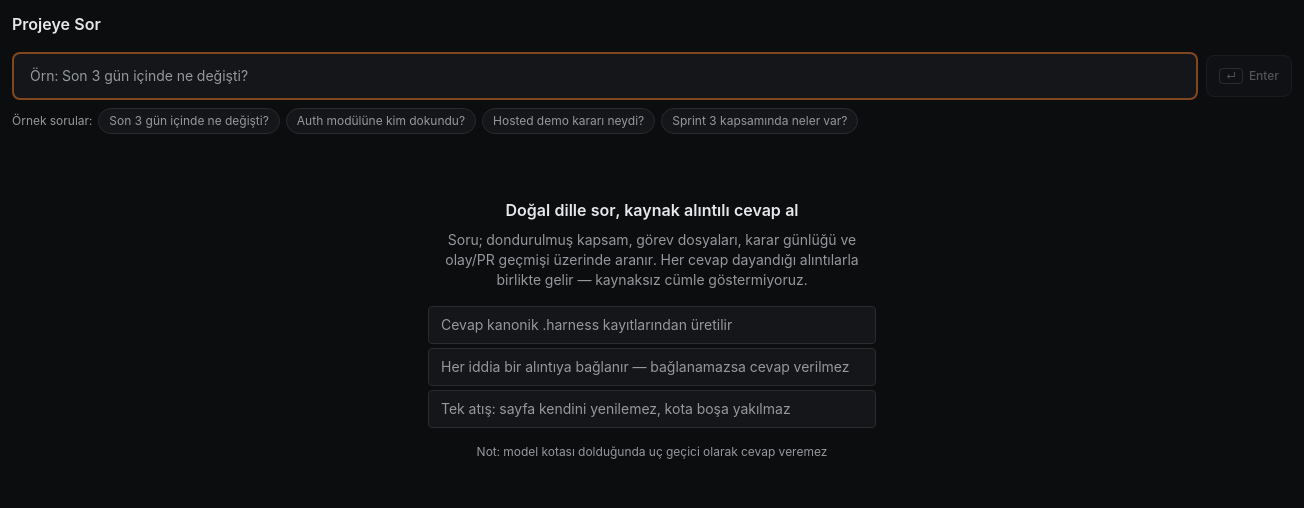
Test case: AskPage — Takip önerileri (#319, cevabın altında) › answered cevapta citation'lardan ŞABLONLU takip sorusu üretir
The width and height of the screenshot is (1304, 508).
In the field named "Projeye sorulacak soru": (605, 76) 12,52 -> 1198,100, type "Auth modülüne kim dokundu?"
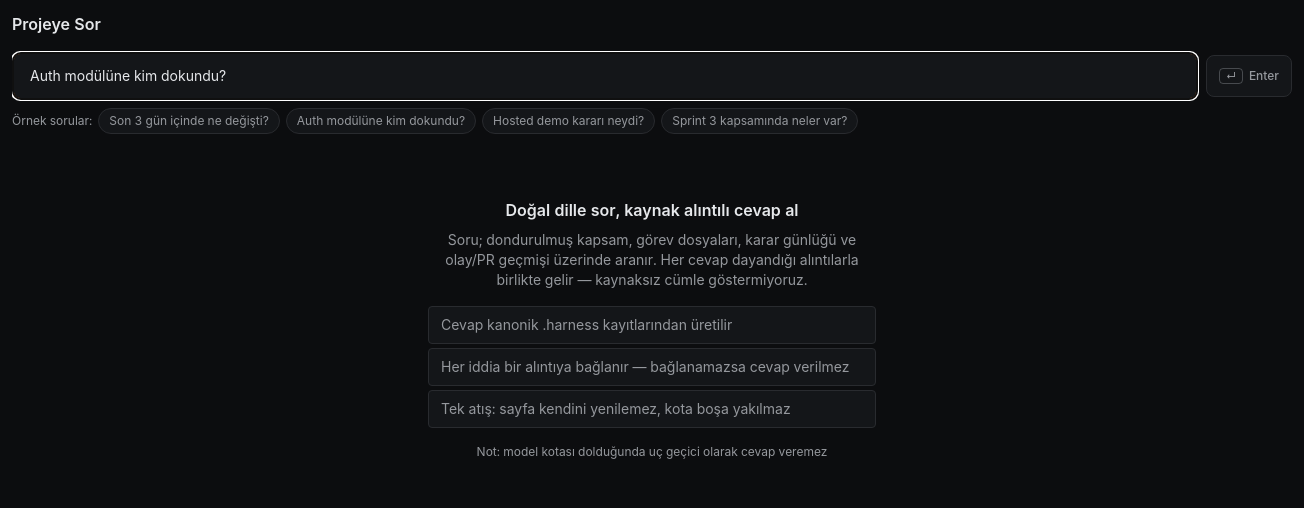
Click the button with aria-label "Soruyu gönder": (1249, 76) 1206,55 -> 1292,97
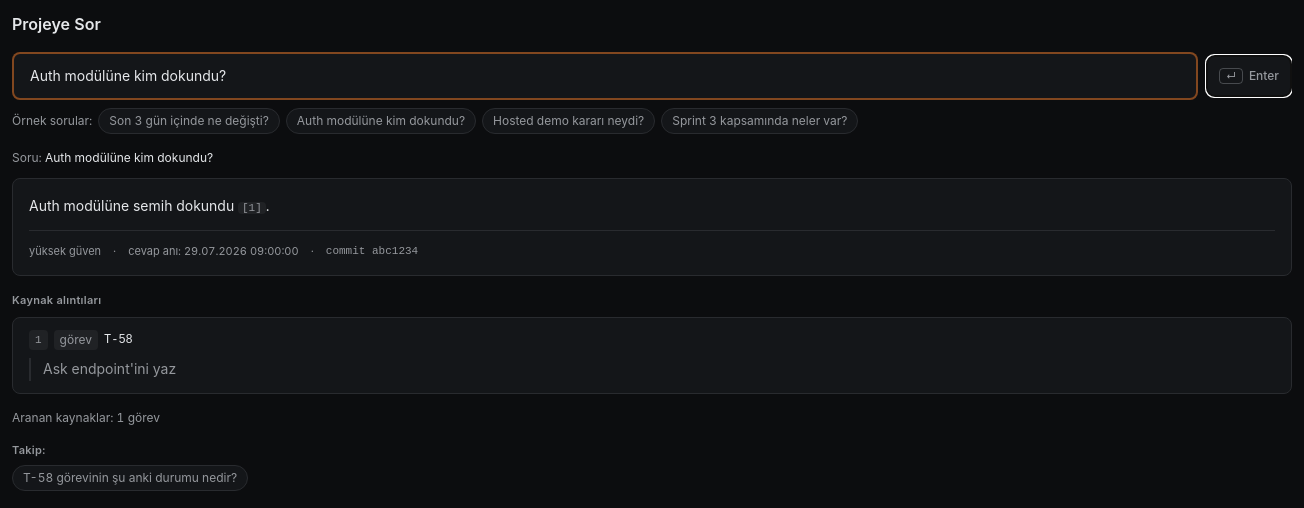
Expected: the heading "Takip:" is shown, 12,443 -> 45,457
Expected: the button "T-58 görevinin şu anki durumu nedir?" is shown, 12,465 -> 248,491
